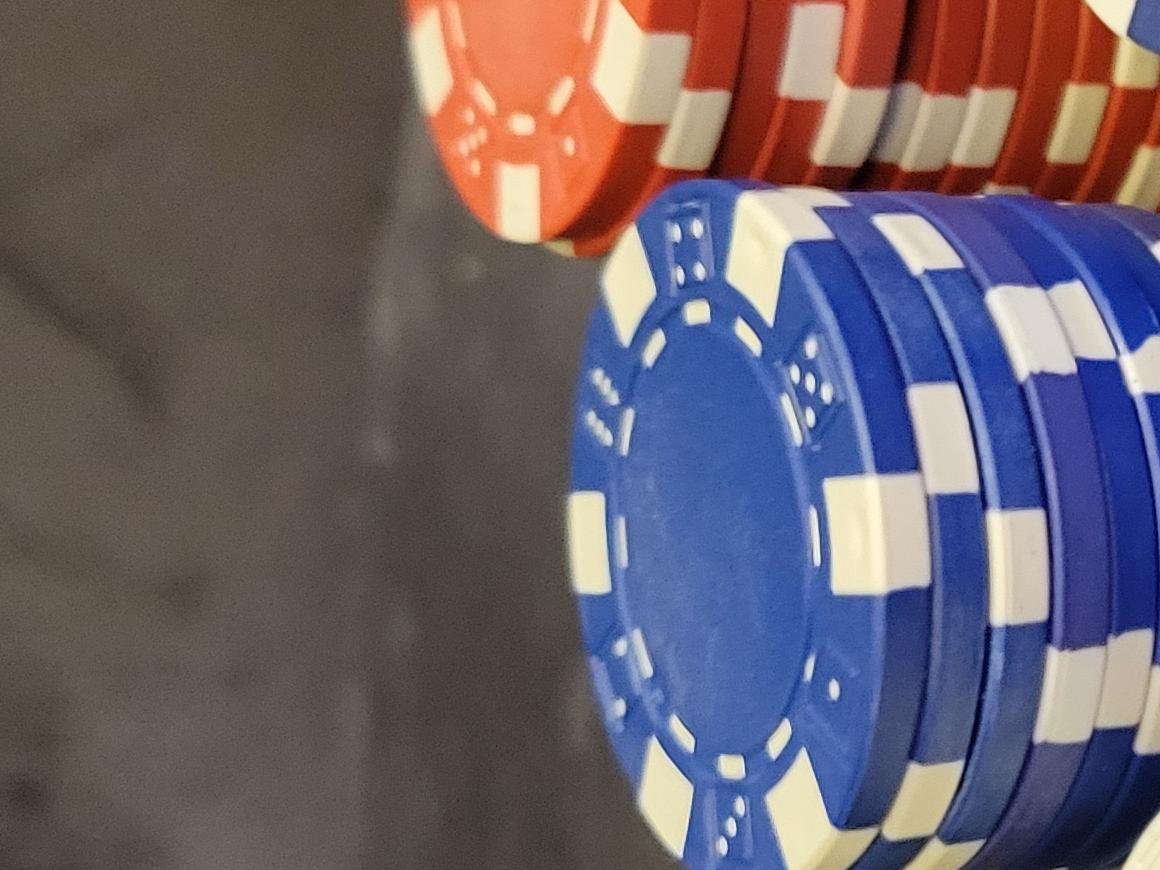Chip: (1, 356, 748, 870)
